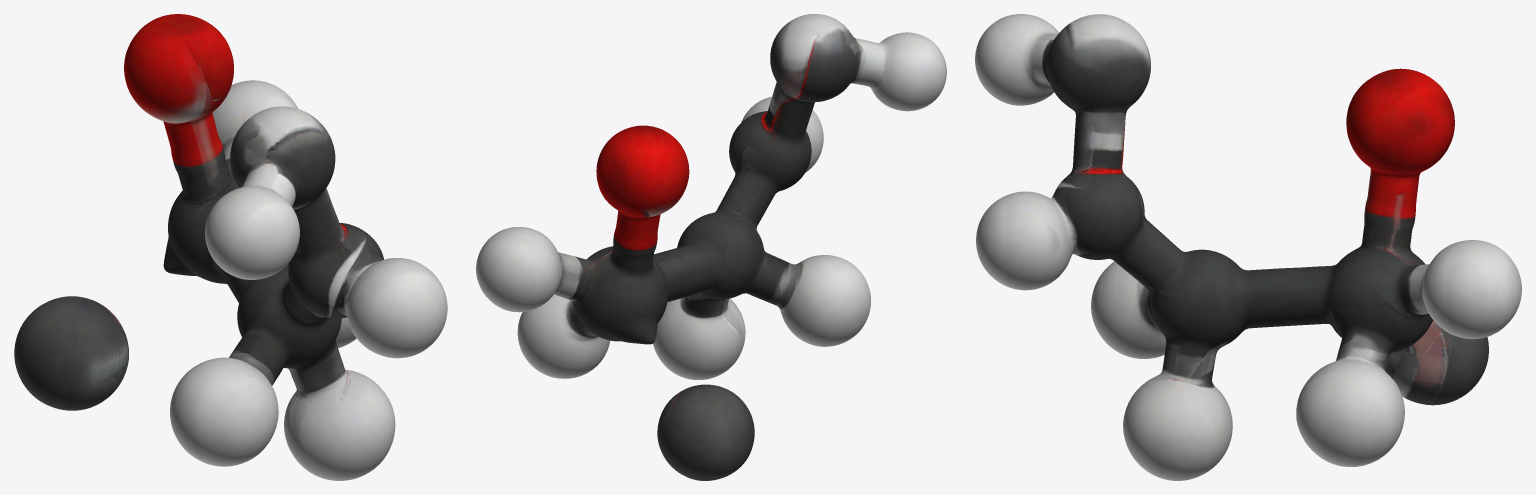
Rendered from ethanol.glb.
The picture shows the model from 3 angles, left to right: view 1: azimuth 30°, elevation 25°; view 2: azimuth 150°, elevation 25°; view 3: azimuth 270°, elevation 25°; orthographic projection. The views are drawn at different scales.
Size of the model in its own units: 1.35 by 1.65 by 2.
1 material, 1 textured.
